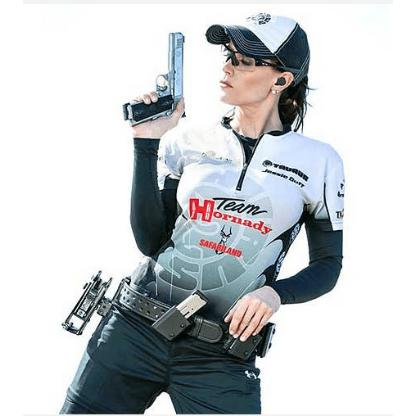gun: (123, 24, 185, 127)
